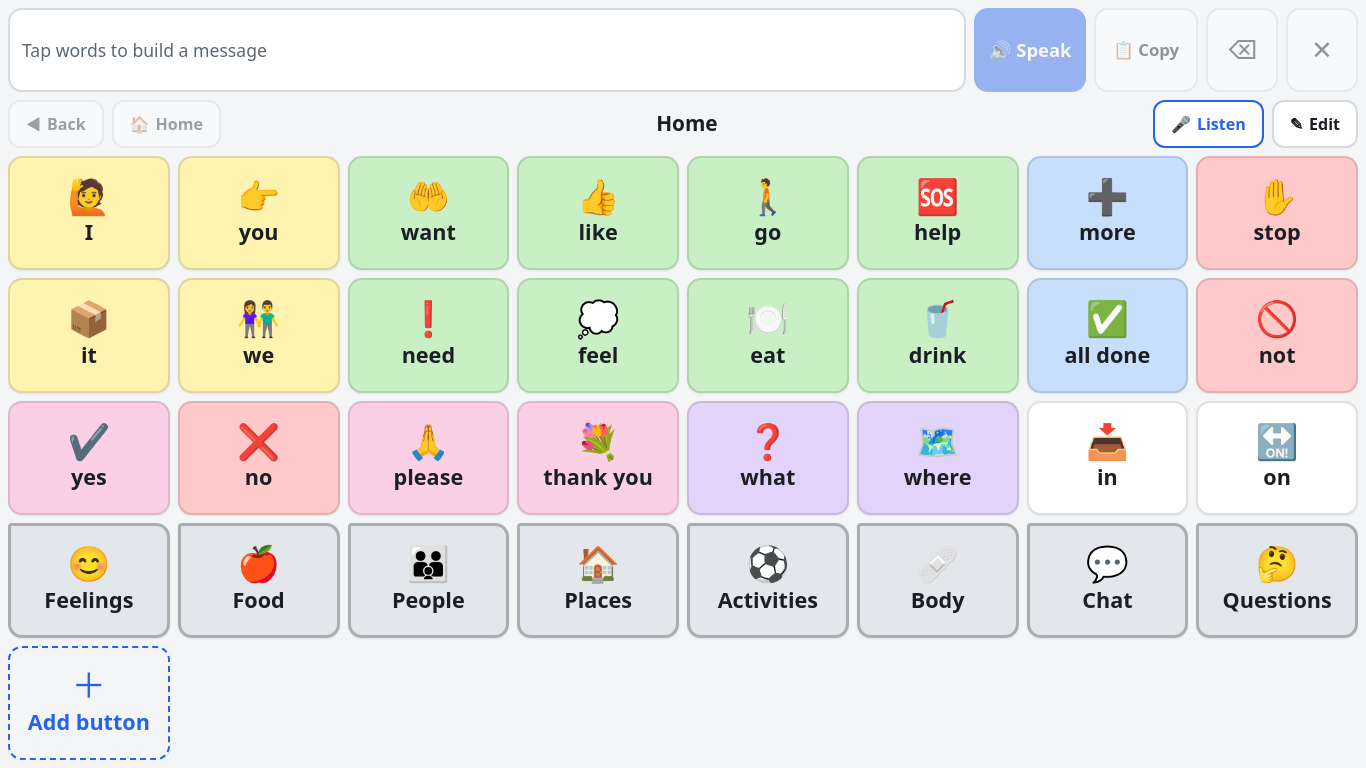
Test case: voice matching › selects a confidently matched button, like tapping it
Click the button "🎤 Listen" at x=1208, y=124, box [1153,100,1264,148]
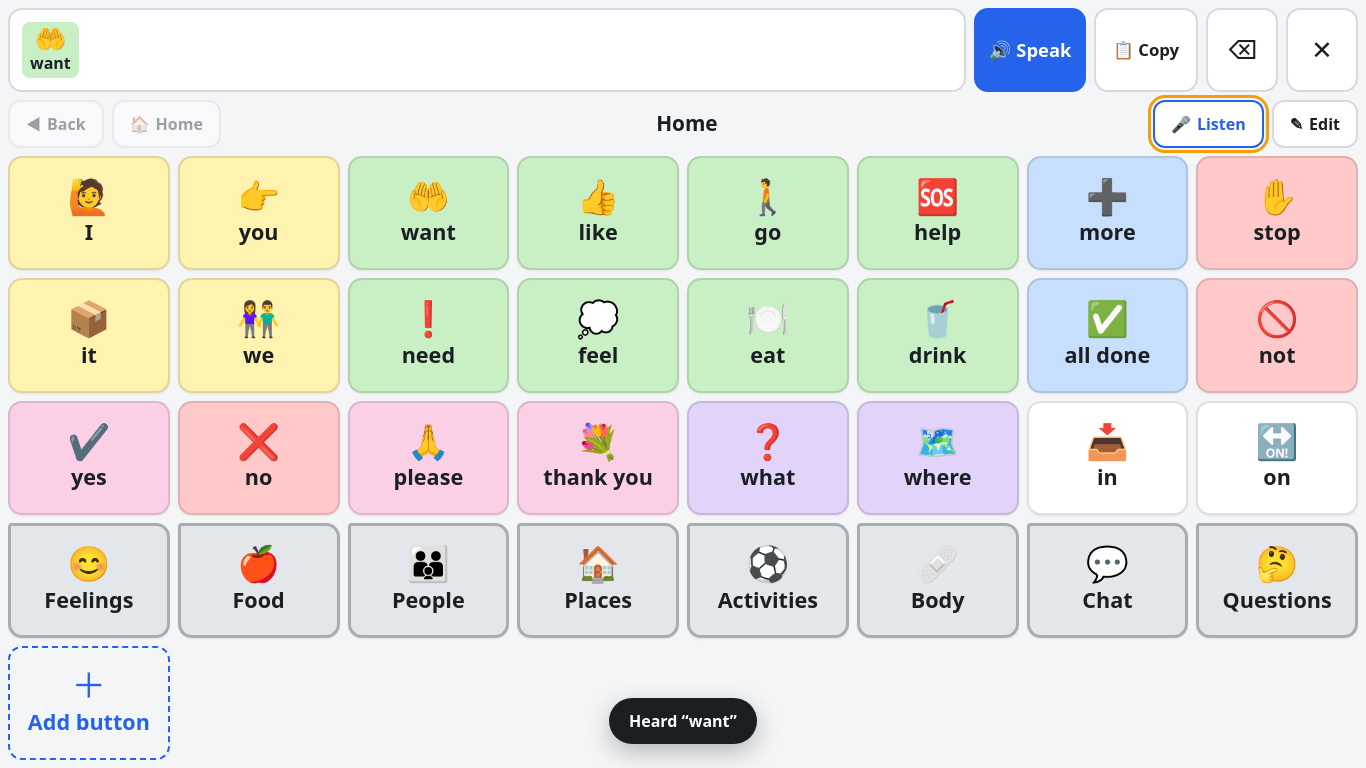
Expected: the 1st text "want" is shown, [30,52,71,74]
Expected: the text "Heard “want”" is shown, [609,698,757,744]
